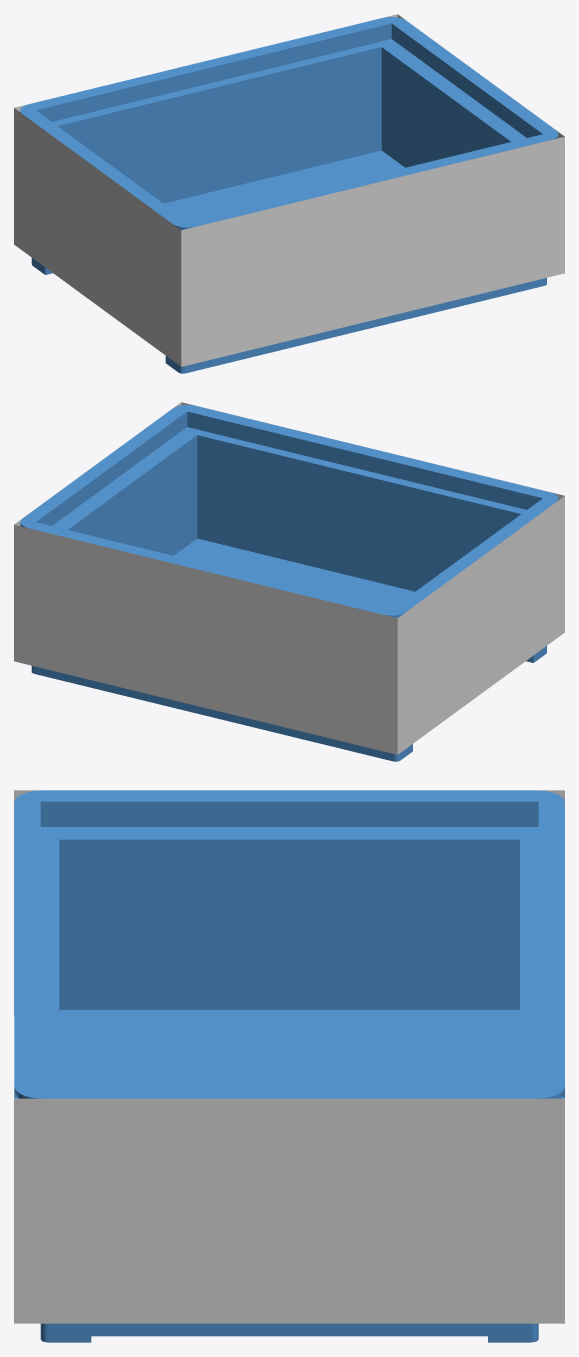
Rendered from klt_4315.fbx.
3 views of the same model, one above another, from view 1: azimuth 30°, elevation 25°; view 2: azimuth 150°, elevation 25°; view 3: azimuth 270°, elevation 25° (orthographic). The views are drawn at different scales.
Parts seen in each view (by area): view 1: Lagerkiste!NULL#Lagerkiste;Lagerkiste, DataLabel.011, DataLabel.010; view 2: Lagerkiste!NULL#Lagerkiste;Lagerkiste, DataLabel.013, DataLabel.010; view 3: Lagerkiste!NULL#Lagerkiste;Lagerkiste, DataLabel.012.
Part boxes in pixels (x1=…): Lagerkiste!NULL#Lagerkiste;Lagerkiste: x1=20, y1=17, x2=558, y2=373; DataLabel.011: x1=181, y1=137, x2=564, y2=366; DataLabel.010: x1=14, y1=108, x2=181, y2=366; Lagerkiste!NULL#Lagerkiste;Lagerkiste: x1=20, y1=405, x2=558, y2=761; DataLabel.013: x1=14, y1=524, x2=397, y2=754; DataLabel.010: x1=397, y1=496, x2=564, y2=754; Lagerkiste!NULL#Lagerkiste;Lagerkiste: x1=14, y1=790, x2=564, y2=1342; DataLabel.012: x1=14, y1=1098, x2=564, y2=1323.
Bounding box in the file's own units: 38.81 × 14.7 × 29.32.
